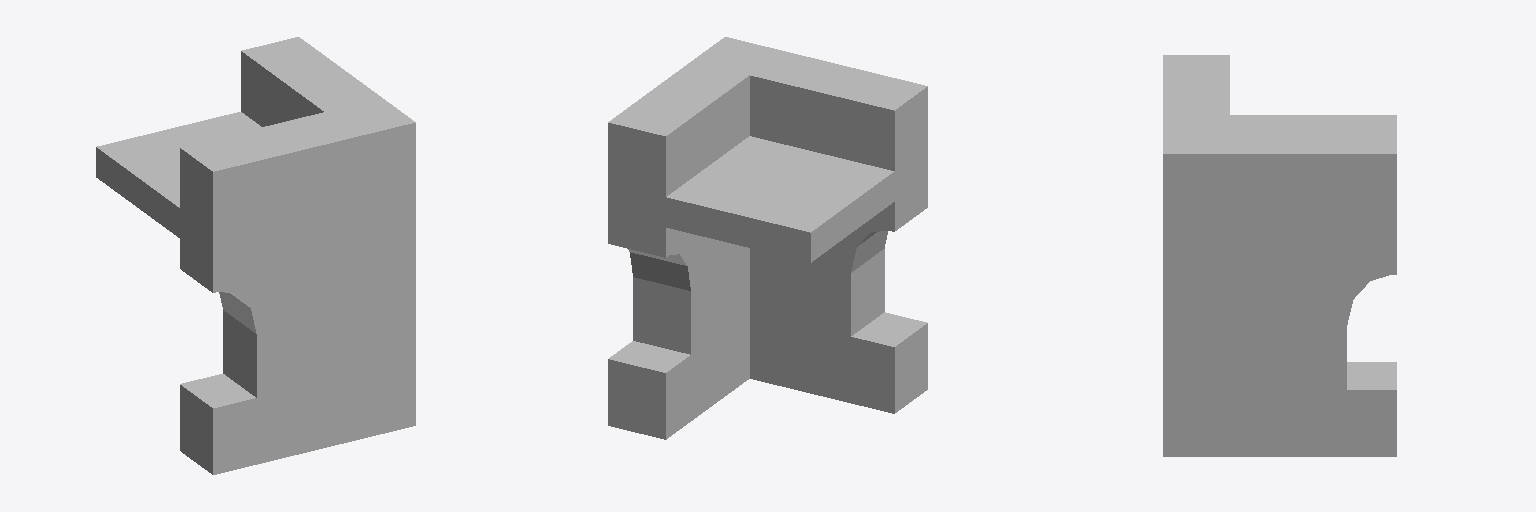
Rendered from building_1000-0000.obj.
3 views of the same model, side by side, from view 1: azimuth 30°, elevation 25°; view 2: azimuth 150°, elevation 25°; view 3: azimuth 270°, elevation 25° (orthographic).
Parts seen in each view (by area): view 1: building_1000-0000_Cube.013; view 2: building_1000-0000_Cube.013; view 3: building_1000-0000_Cube.013.
Part boxes in pixels (x1,y1,x2,y2): building_1000-0000_Cube.013: (96,37,415,474); building_1000-0000_Cube.013: (608,37,927,439); building_1000-0000_Cube.013: (1163,55,1396,456).
Bounding box in the file's own units: 0.7 × 1 × 0.7.